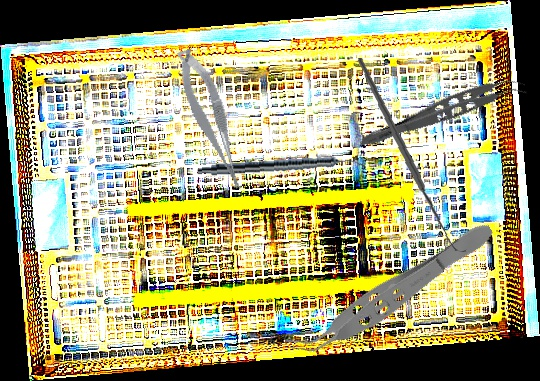Handpiece: (196, 153, 366, 180)
Hook Surgical: (344, 57, 480, 253)
Micro Scissor: (172, 43, 248, 197)
Tissue Forceps: (284, 211, 501, 372), (356, 66, 529, 163)
